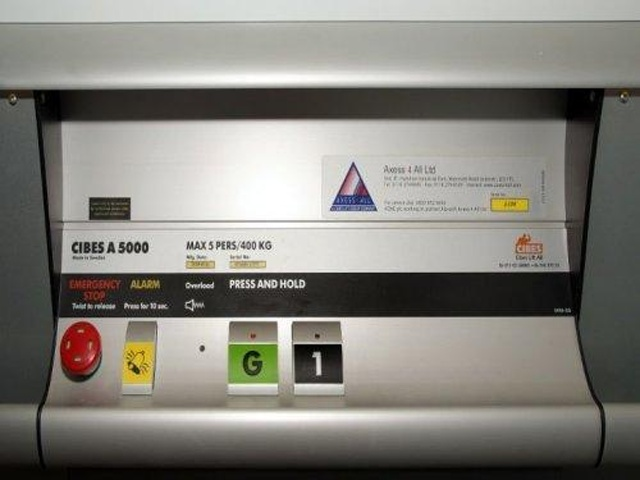1: (290, 319, 347, 398)
G: (224, 319, 281, 398)
alarm: (118, 318, 159, 398)
empty: (57, 318, 105, 384)
